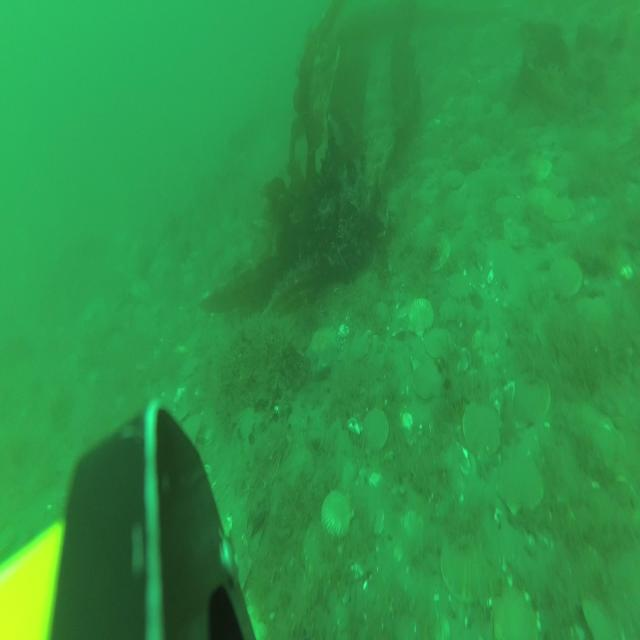scallop: (442, 532, 490, 601), (496, 454, 541, 524), (494, 585, 543, 640), (510, 373, 552, 434), (462, 402, 498, 460), (319, 488, 353, 540), (552, 257, 583, 307), (412, 360, 443, 400), (364, 407, 387, 456), (545, 193, 572, 230), (410, 299, 433, 340), (425, 324, 448, 362), (531, 152, 553, 188), (444, 163, 466, 192), (180, 357, 198, 380)
starfish: (307, 326, 341, 369)
